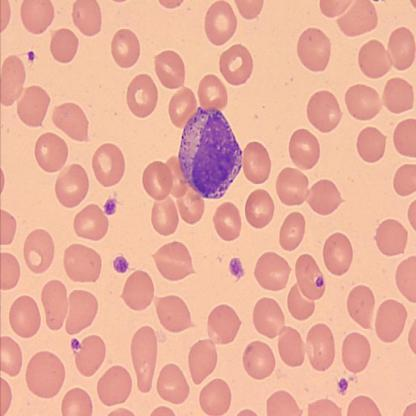Myelocyte: (177, 106, 243, 197)
